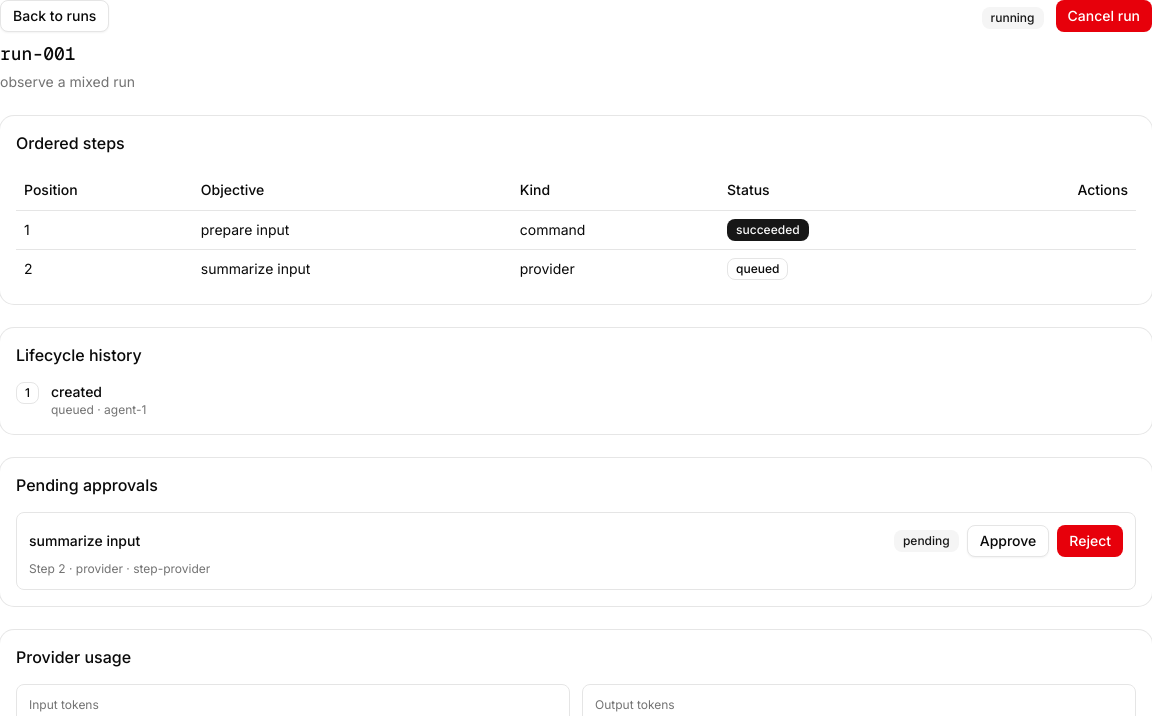
Test: RunDetail › shows a clean failure message and still refreshes durable state on a stale/ineligible mutation
The image size is (1152, 716).
Click the button "Approve": x=1008, y=540 [967,524,1049,556]
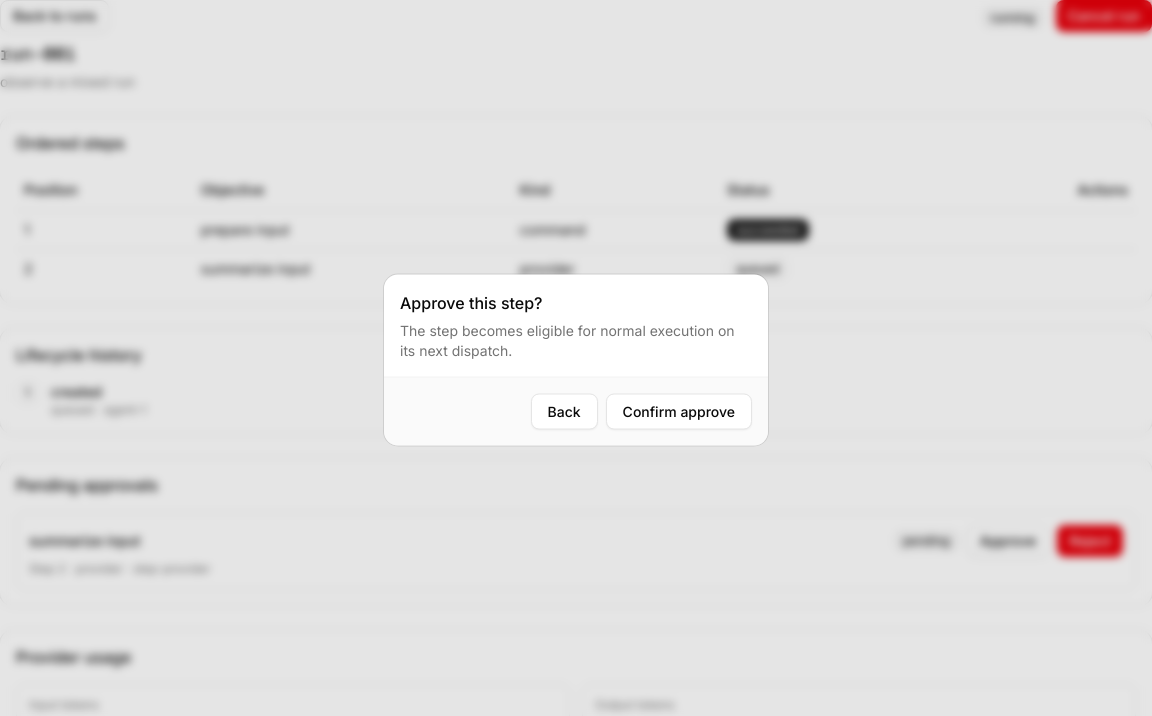
Click the button "Confirm approve": x=679, y=412 [606,394,752,430]
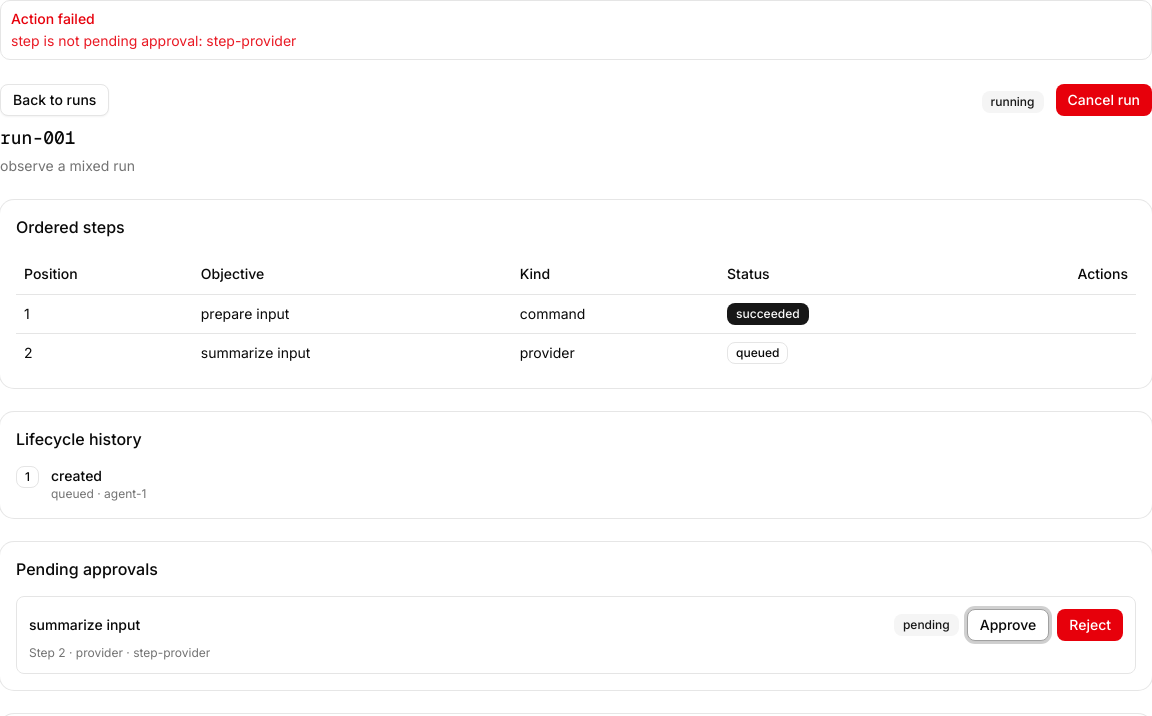
Expected: the message with test id "run-detail-mutation-error" shows "step is not pending approval: step-provider", [11,32,296,49]
